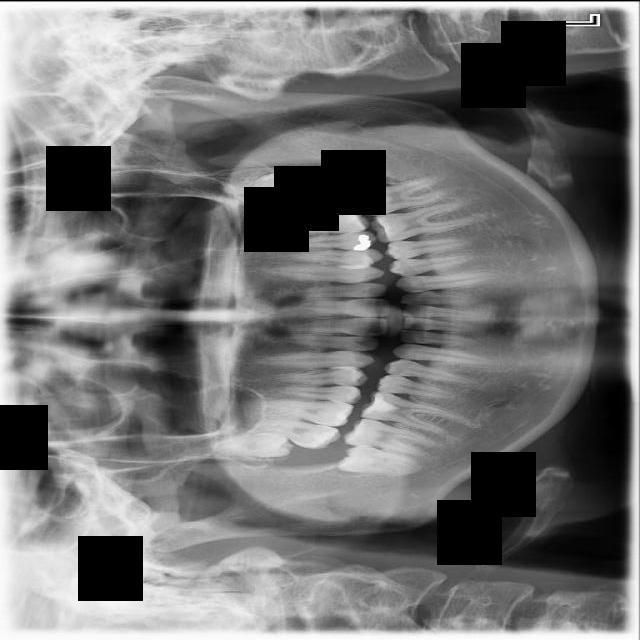3M ESPE Implant: (196, 431, 294, 457)
52: (360, 388, 406, 422), (370, 213, 416, 242), (337, 230, 377, 250)
73: (606, 13, 616, 23)
BioHorizons Implant: (257, 180, 354, 221)
BioLife Implant: (214, 164, 311, 215)
Blue Sky Bio Implant: (352, 174, 447, 219)
Caries: (241, 411, 343, 453)
Implant: (341, 414, 438, 457)
Keystone Dental Implant: (336, 442, 422, 476)
